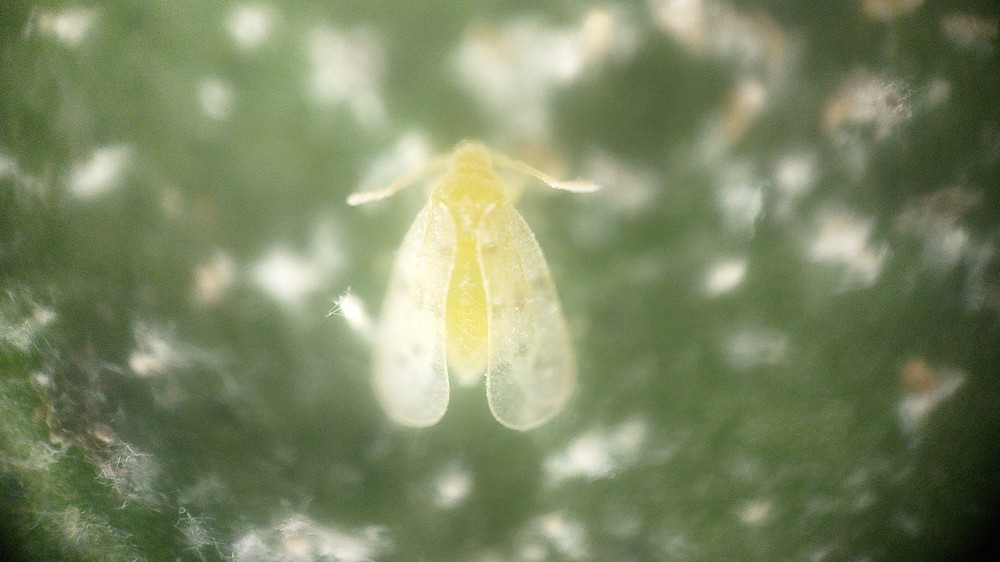Mosca Blanca: (325, 127, 618, 449)
